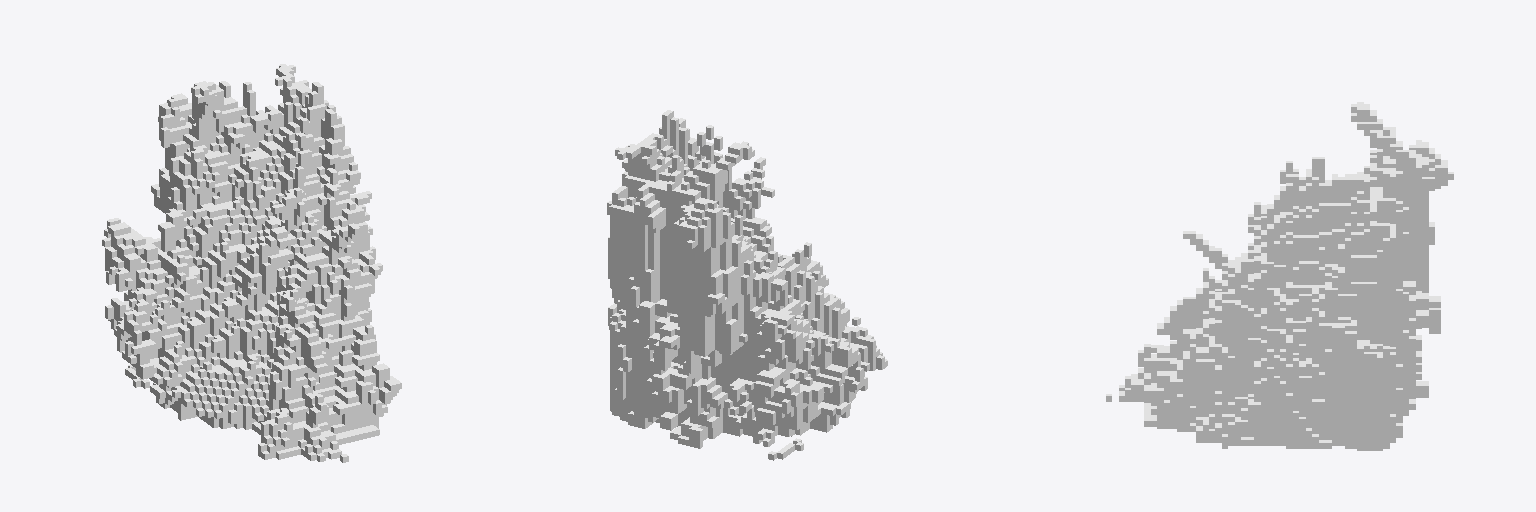
The model's file is Testmap_VM_V1-3.obj.
The picture shows the model from 3 angles: view 1: azimuth 30°, elevation 25°; view 2: azimuth 150°, elevation 25°; view 3: azimuth 270°, elevation 25°; orthographic projection.
Visible parts, largest first — view 1: Testmap_VM_V1-3; view 2: Testmap_VM_V1-3; view 3: Testmap_VM_V1-3.
Part boxes in pixels (left/top/right/bottom): Testmap_VM_V1-3: left=102, top=64, right=401, bottom=462; Testmap_VM_V1-3: left=607, top=110, right=887, bottom=460; Testmap_VM_V1-3: left=1106, top=102, right=1453, bottom=450.
Bounding box in the file's own units: 40 × 49 × 54.